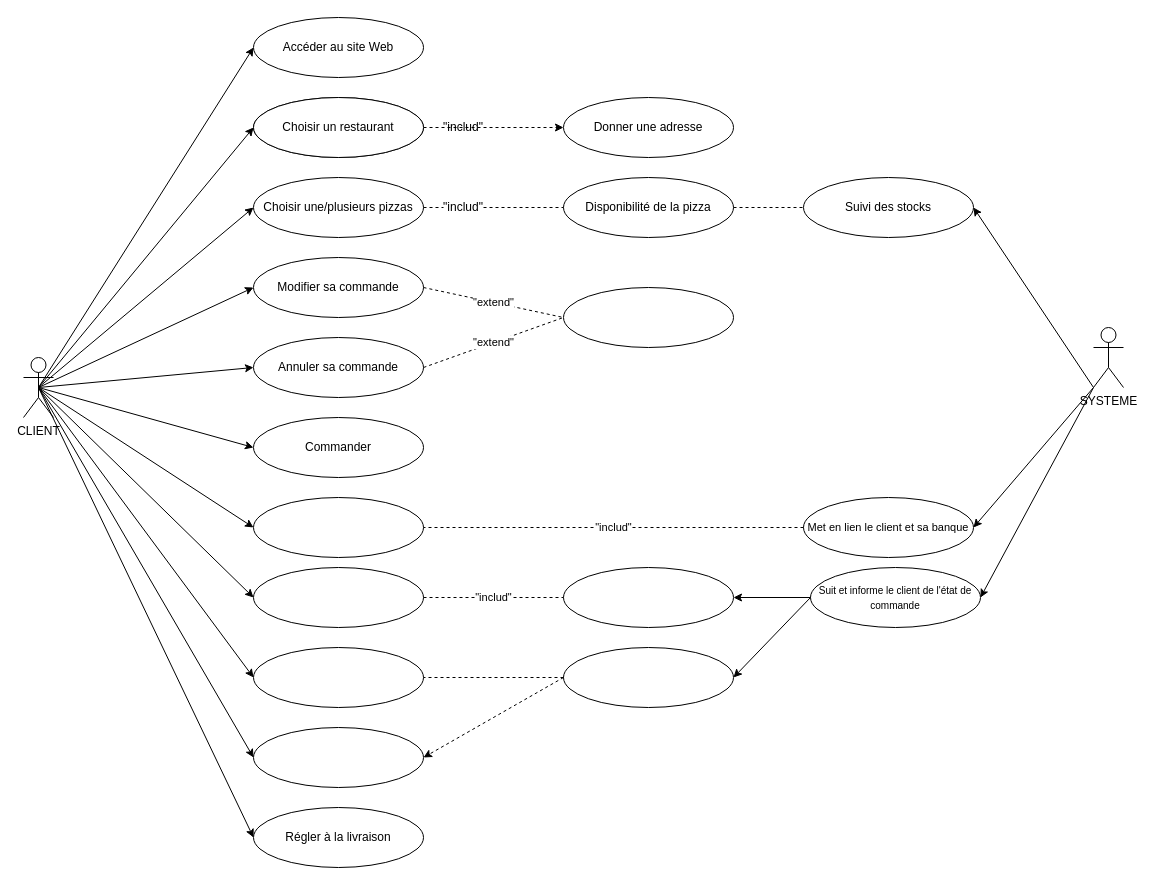
Image size: 1154x885. Some labels were removed from this diagram. The shapes that lost their labels are listed below. From the top down, each one's centre as x and y in pixels, then its label:
point 648,317: Dans les conditions fixées par le système
point 338,527: Régler en ligne
point 338,597: Suivre l'état de sa commande
point 648,597: Suivi en live via la page "Commandes" su site Web
point 338,677: Recevoir des messages
point 648,677: Envoi de messages d'information et du QR Code
point 338,757: Être livré
